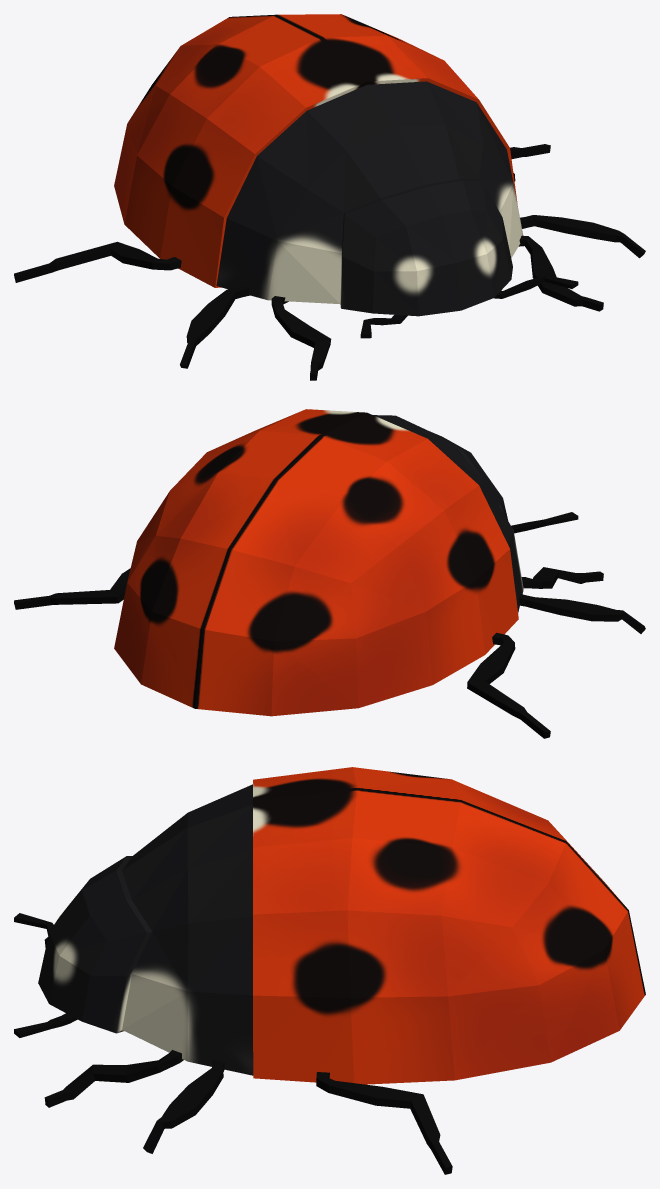
File: ladybug.obj
The picture shows the model from 3 angles, top to bottom: view 1: azimuth 30°, elevation 25°; view 2: azimuth 150°, elevation 25°; view 3: azimuth 270°, elevation 25°; orthographic projection. The views are drawn at different scales.
Parts seen in each view (by area): view 1: ladybug; view 2: ladybug; view 3: ladybug.
Boxes of the visible parts, box(x1,y1,x2,y2) form: ladybug: box(14, 14, 645, 380); ladybug: box(14, 409, 645, 738); ladybug: box(14, 767, 645, 1174).
Bounding box in the file's own units: 1.4 × 0.5191 × 1.25.
Materials: 2 (1 with a texture image).
